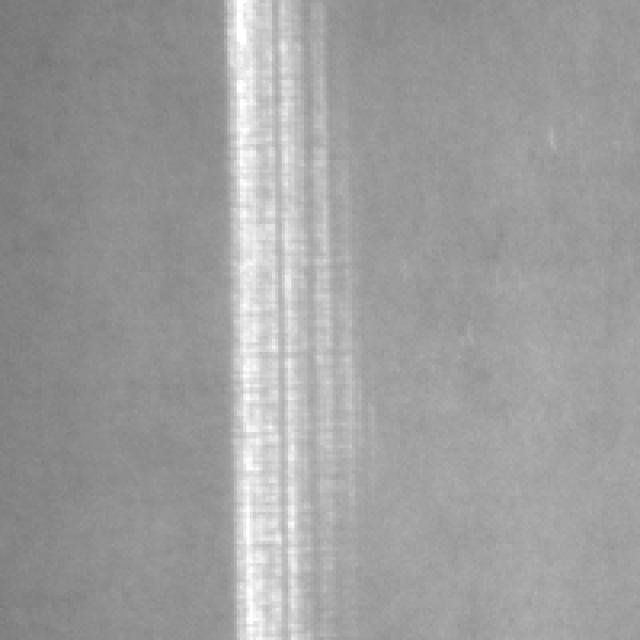scratches: (240, 0, 334, 640)
